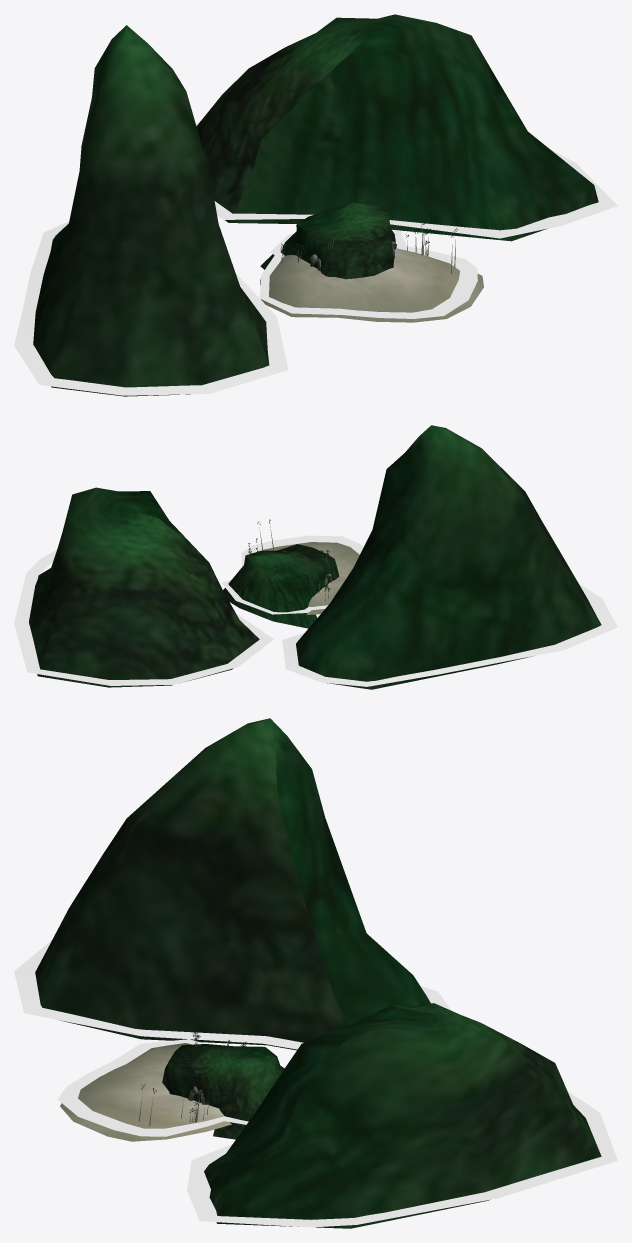
Rendered from pir_m_are_isl_perdida_dock_lod.fbx.
The picture shows the model from 3 angles, top to bottom: view 1: azimuth 30°, elevation 25°; view 2: azimuth 150°, elevation 25°; view 3: azimuth 270°, elevation 25°; orthographic projection. The views are drawn at different scales.
Parts seen in each view (by area): view 1: hill_medium, hill_large, dock_wave, beach, hill_small; view 2: hill_large, hill_medium, dock_wave, hill_small, beach; view 3: hill_large, hill_medium, dock_wave, beach, hill_small.
Boxes of the visible parts, x1,y1,x2,y2 form: hill_medium: (196,14,598,241); hill_large: (33,25,269,396); dock_wave: (14,120,617,395); beach: (260,248,483,322); hill_small: (260,203,395,279); hill_large: (296,425,601,689); hill_medium: (29,487,259,687); dock_wave: (14,535,617,686); hill_small: (223,544,339,628); beach: (263,542,359,614); hill_large: (35,718,430,1050); hill_medium: (204,1003,601,1228); dock_wave: (14,940,617,1227); beach: (60,1043,231,1141); hill_small: (162,1044,284,1139).
Bounding box in the file's own units: 230129 × 98754 × 186249.
Materials: 2 (2 with a texture image).
